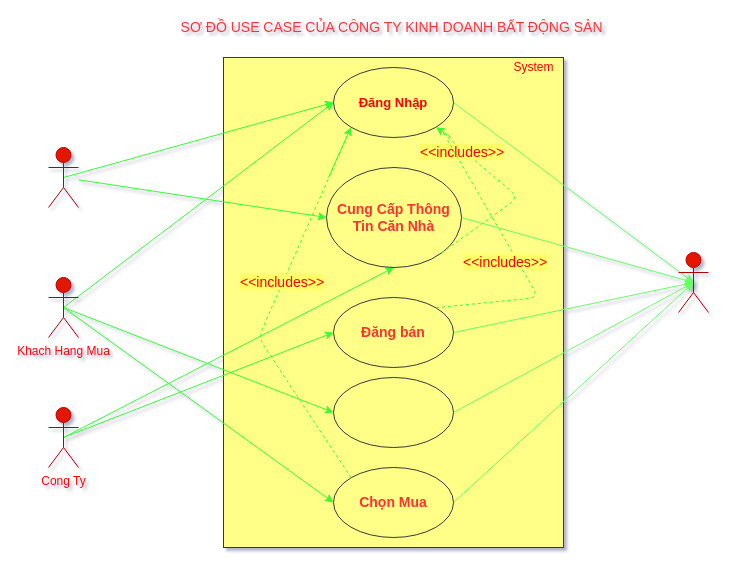
Some shapes in this 742 by 571 pixel diagram are drawn without their labels. The centre of each missing label's shape, as x and y in pixels:
"Database" goes at pixel 693 282.
"Khach Hang Ban" goes at pixel 63 177.
"Tìm Kiếm Căn Nhà" goes at pixel 393 412.
